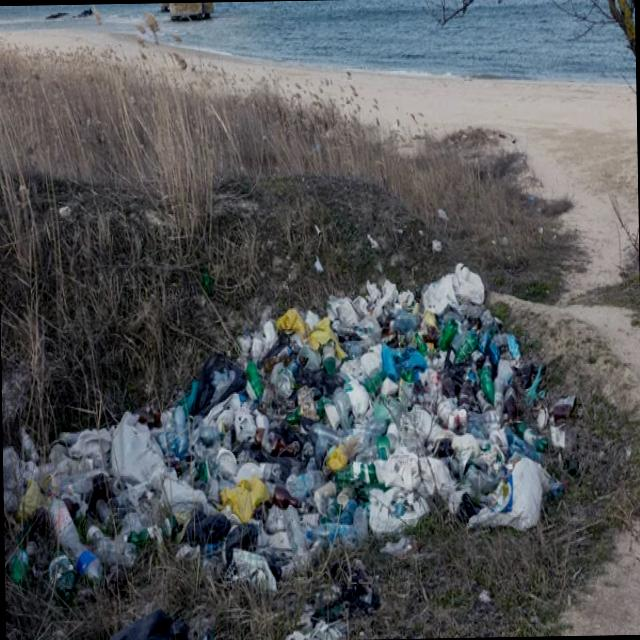garbage: (18, 268, 522, 594)
